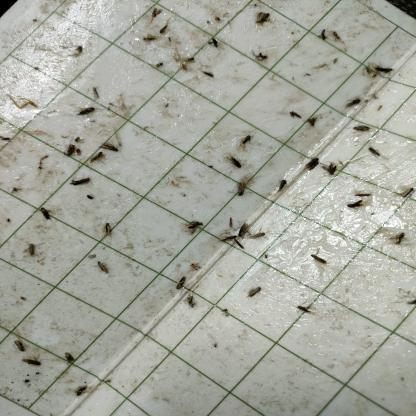prays_oleae: (253, 6, 272, 34), (248, 224, 270, 248), (373, 57, 395, 80), (184, 210, 202, 238), (249, 41, 269, 66), (310, 248, 330, 272), (94, 256, 111, 284), (172, 269, 188, 296), (322, 159, 340, 183), (296, 296, 311, 324), (20, 353, 42, 371), (344, 198, 366, 216), (246, 281, 262, 305), (100, 137, 119, 157), (72, 173, 92, 191), (38, 202, 53, 226), (10, 333, 28, 353), (398, 182, 416, 202), (288, 106, 304, 128), (206, 31, 221, 54), (348, 121, 371, 136), (344, 97, 364, 114), (234, 176, 248, 200), (102, 218, 114, 245), (392, 230, 408, 250), (352, 186, 376, 198), (182, 294, 196, 314), (89, 83, 103, 103), (184, 48, 195, 72), (238, 221, 250, 242), (229, 153, 244, 169), (368, 144, 380, 164), (24, 244, 38, 260), (62, 350, 76, 366), (74, 382, 88, 398), (220, 232, 238, 244), (152, 56, 164, 74), (142, 31, 158, 44), (240, 131, 252, 148), (76, 106, 96, 116), (92, 148, 104, 164), (158, 18, 166, 42)
